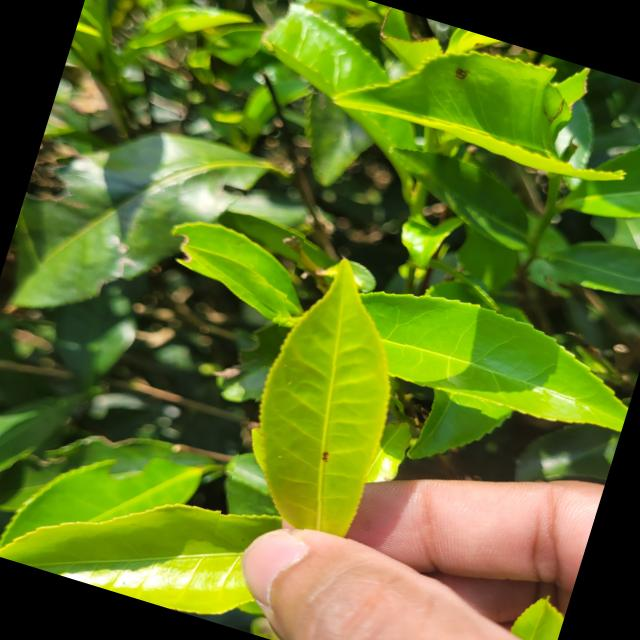Catagory A(1-2 days): (212, 228, 452, 582)
